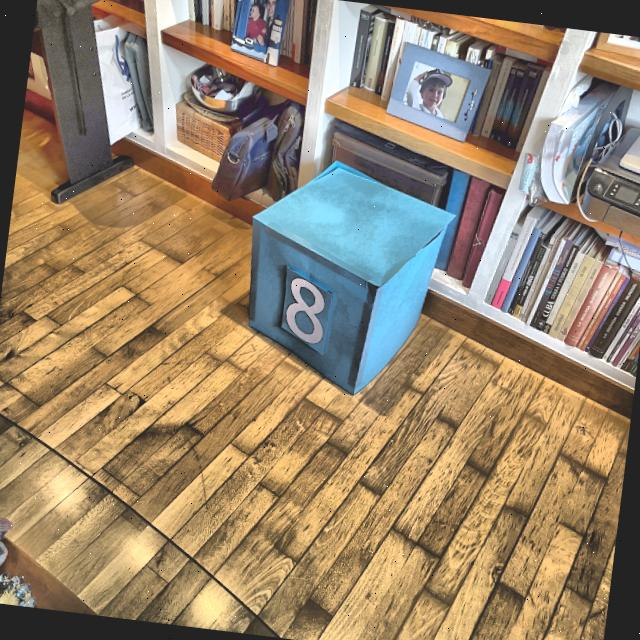blue box: (228, 146, 462, 408)
eight: (279, 272, 331, 347)
